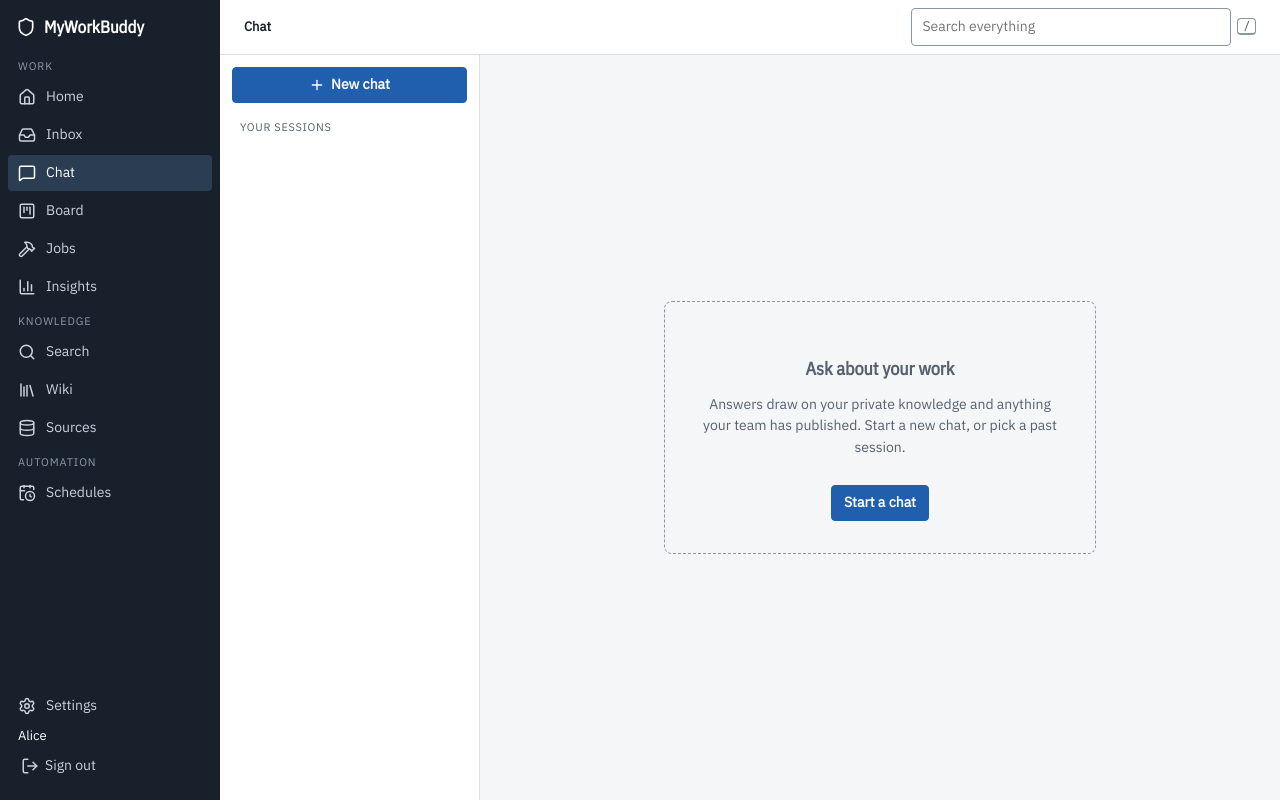
Test: top bar › searches everything from any page and keeps the query in the URL
Type "spark oom" into the search field labelled "Search everything" at x=1071, y=27, box [911,8,1231,46]
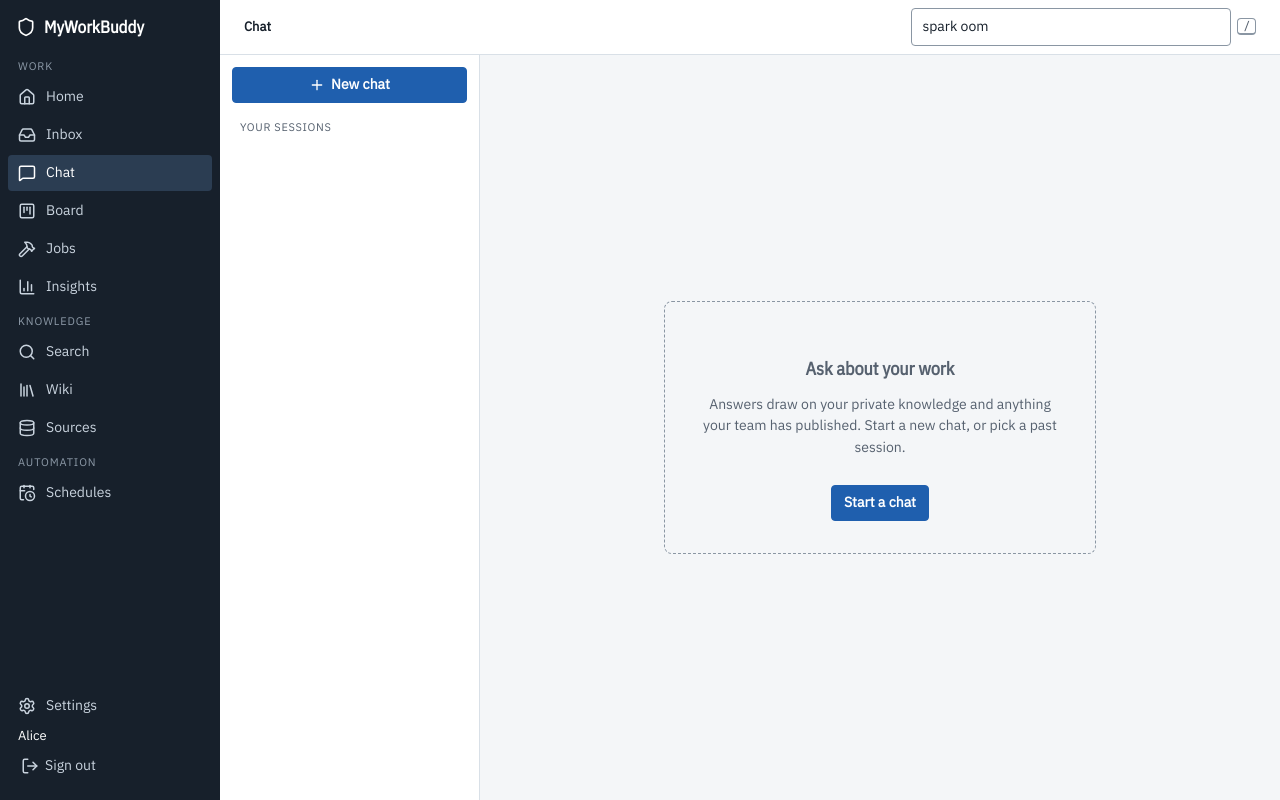
Submit the form named "Search everything", box [911,8,1256,46]
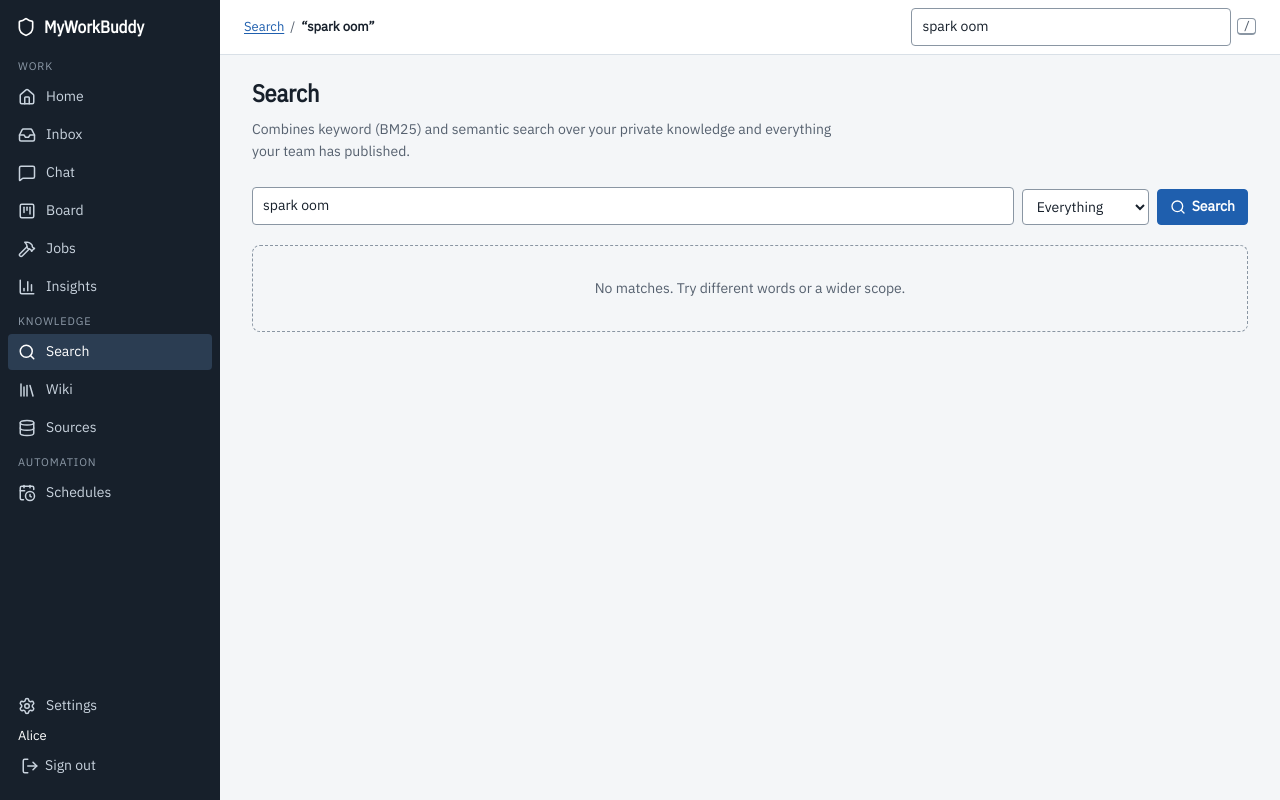
Expected: the field named "Search query" holds "spark oom", [252,187,1014,225]
